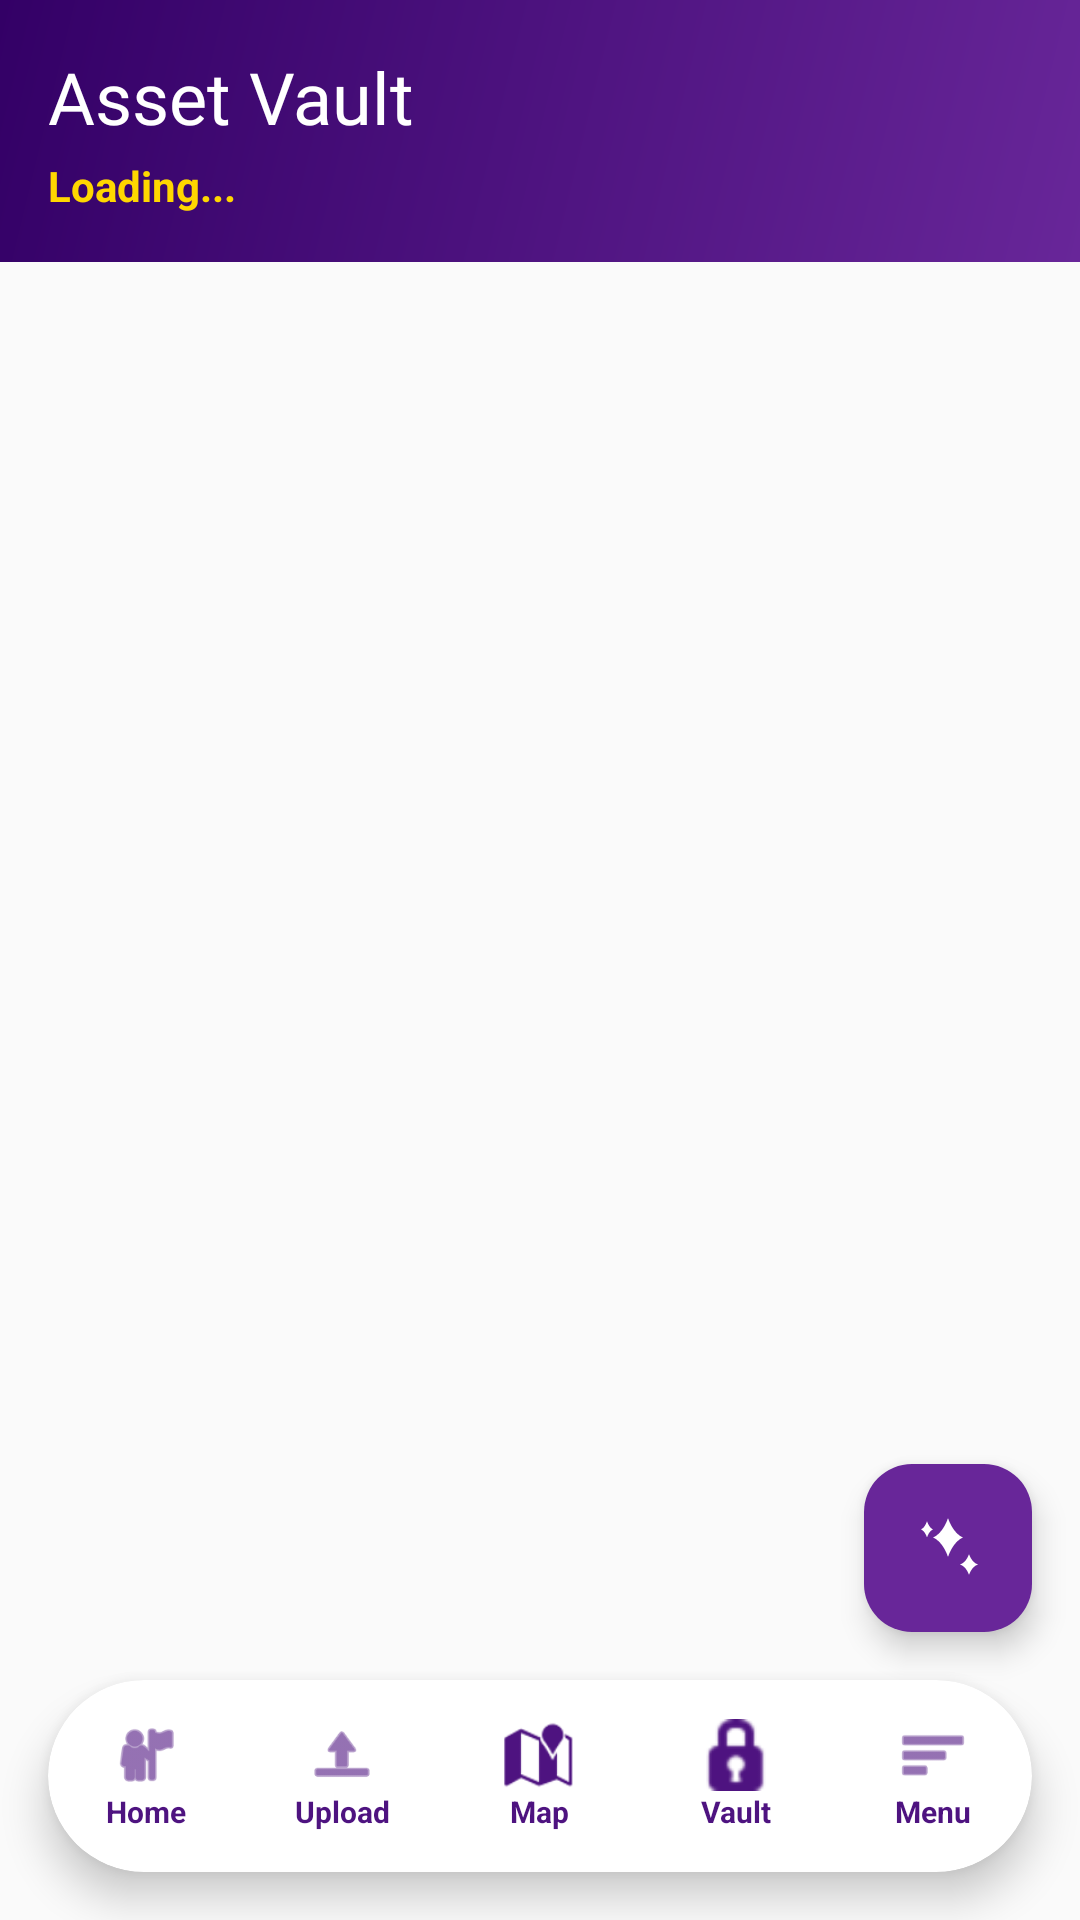

Locate icon controls on the screen. Image size 1080px x 1920px, boxes as [x1, y1, x2, y2].
Gemini AI Assistant: [864, 1464, 1032, 1632]
secure: [707, 1719, 764, 1791]
sort by size: [902, 1735, 964, 1776]
